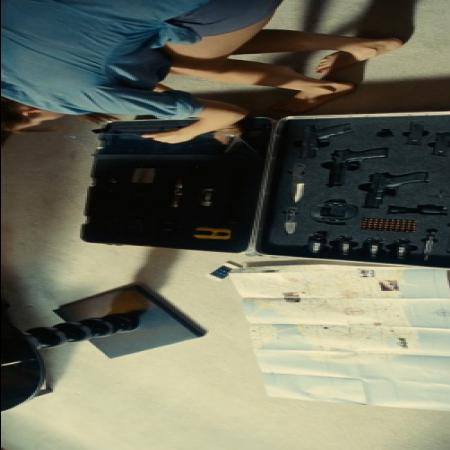Pistol: (317, 144, 407, 187), (273, 119, 352, 162), (358, 165, 436, 208)
